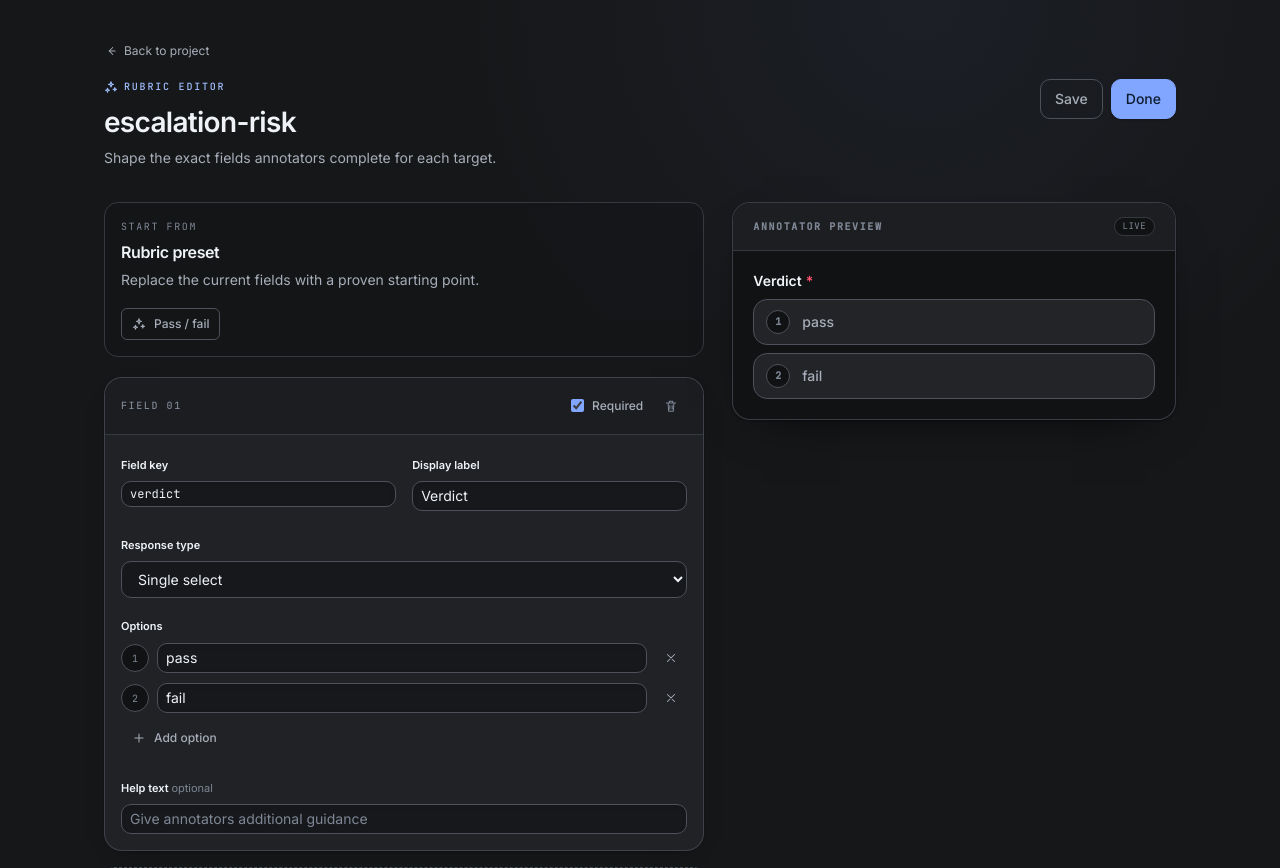
Test case: RubricEditor › saves non-breaking changes
Click the button "Save": (1071, 99) [1040,79,1103,119]
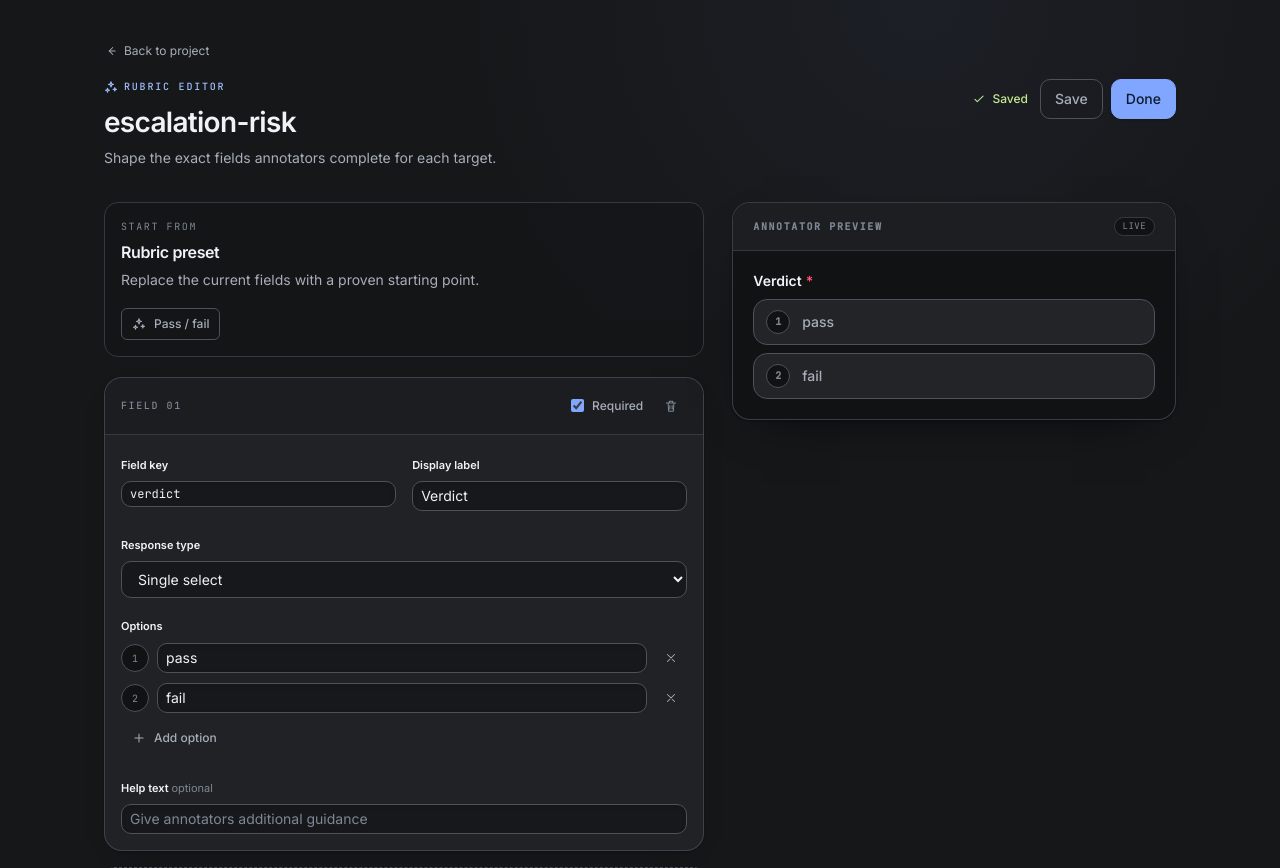
Now the text "Saved" is shown, box [972,91,1028,107]
